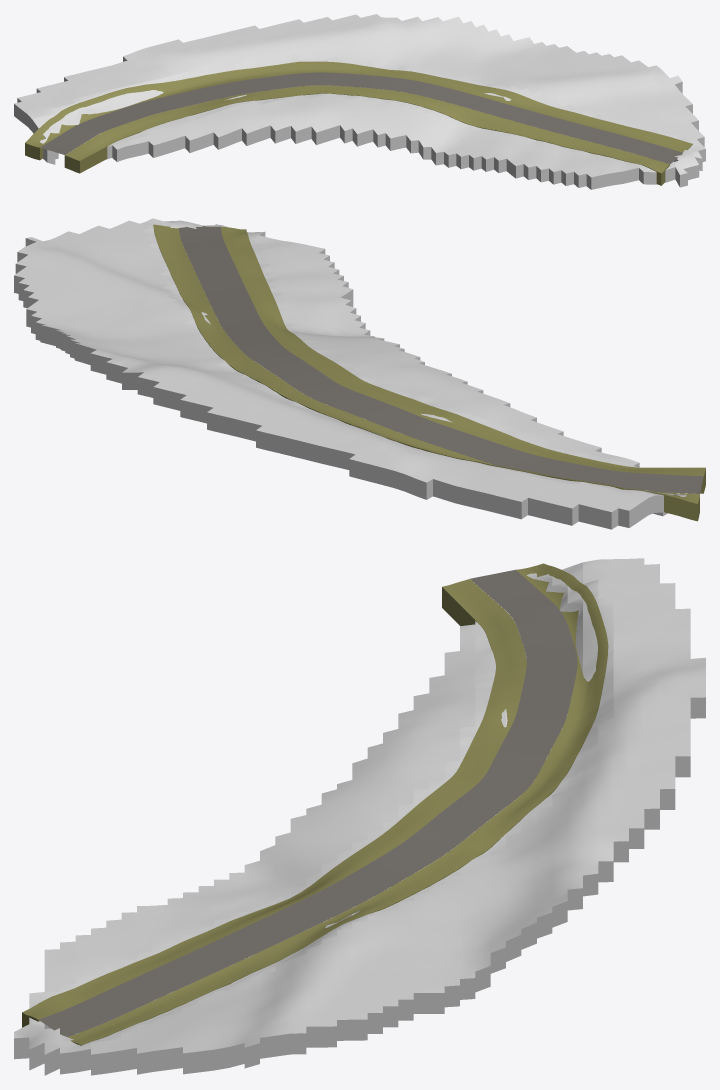
The model's file is conz_129.glb.
3 renders of one model, top to bottom at view 1: azimuth 30°, elevation 25°; view 2: azimuth 150°, elevation 25°; view 3: azimuth 270°, elevation 25°, orthographic. The views are drawn at different scales.
Visible parts, largest first — view 1: terrain129, road129, verge129R, verge129L; view 2: terrain129, road129, verge129R, verge129L; view 3: terrain129, road129, verge129L, verge129R.
Part boxes in pixels (box(x1,y1,x2,y2)): terrain129: box(14, 14, 705, 189); road129: box(40, 72, 682, 164); verge129R: box(64, 85, 669, 185); verge129L: box(25, 61, 692, 160); terrain129: box(14, 218, 695, 529); road129: box(179, 226, 703, 493); verge129R: box(221, 226, 705, 493); verge129L: box(153, 224, 699, 521); terrain129: box(14, 558, 705, 1075); road129: box(38, 569, 577, 1036); verge129L: box(67, 563, 608, 1045); verge129R: box(22, 579, 526, 1027).
Bounding box in the file's own units: 143 × 16.5 × 90.
